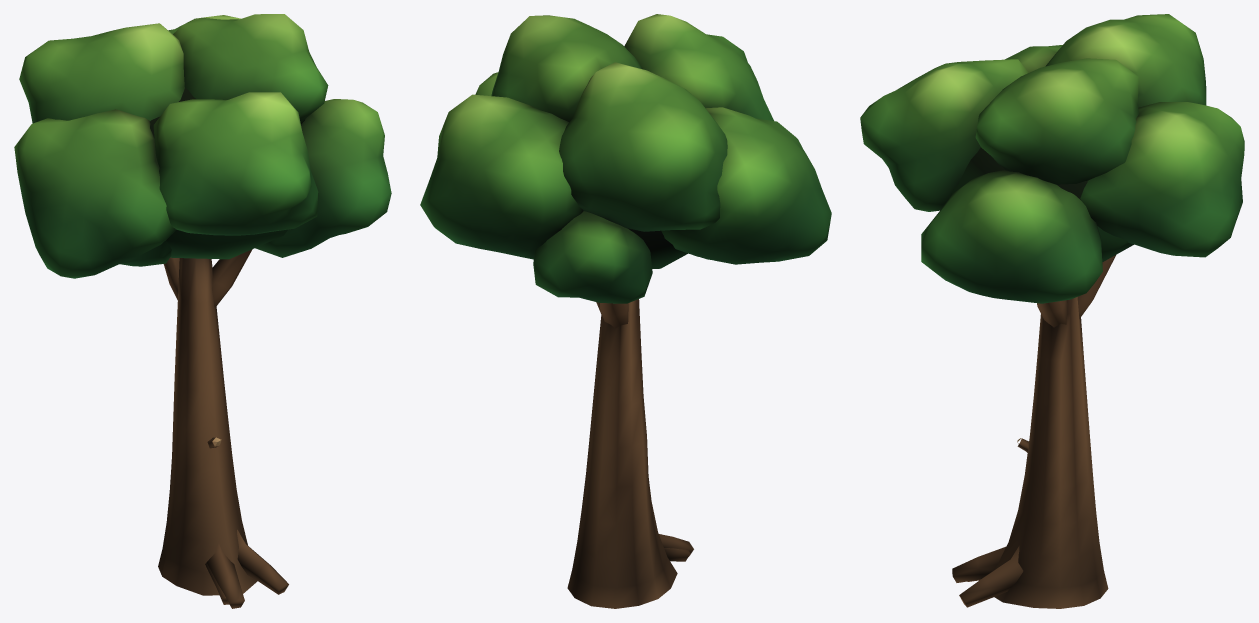
File: tree-young-v2.glb
3 renders of one model, left to right at view 1: azimuth 30°, elevation 25°; view 2: azimuth 150°, elevation 25°; view 3: azimuth 270°, elevation 25°, orthographic. The views are drawn at different scales.
Parts seen in each view (by area): view 1: 1_leaves, 0_trunk; view 2: 1_leaves, 0_trunk; view 3: 1_leaves, 0_trunk.
Boxes of the visible parts, x1,y1,x2,y2 form: 1_leaves: (14, 14, 391, 278); 0_trunk: (158, 249, 288, 608); 1_leaves: (420, 14, 831, 303); 0_trunk: (567, 299, 693, 608); 1_leaves: (860, 14, 1244, 303); 0_trunk: (952, 255, 1115, 608).
Size of the model in its own units: 2.03 by 3.06 by 1.95.
